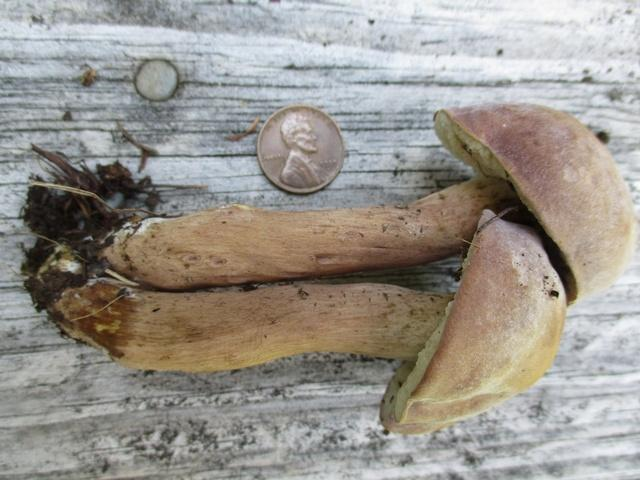poisonous_mushroom: (23, 99, 637, 435)
